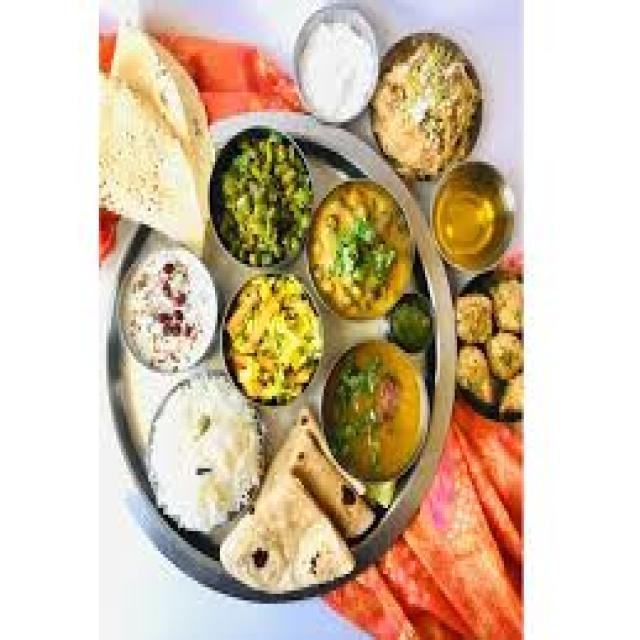curd: (291, 15, 380, 124)
dal: (320, 344, 433, 479)
papad: (97, 58, 212, 241)
pickle: (115, 241, 225, 372)
raita: (289, 16, 381, 122)
rice: (140, 385, 262, 539), (292, 15, 385, 124)
roti: (235, 425, 364, 598)
